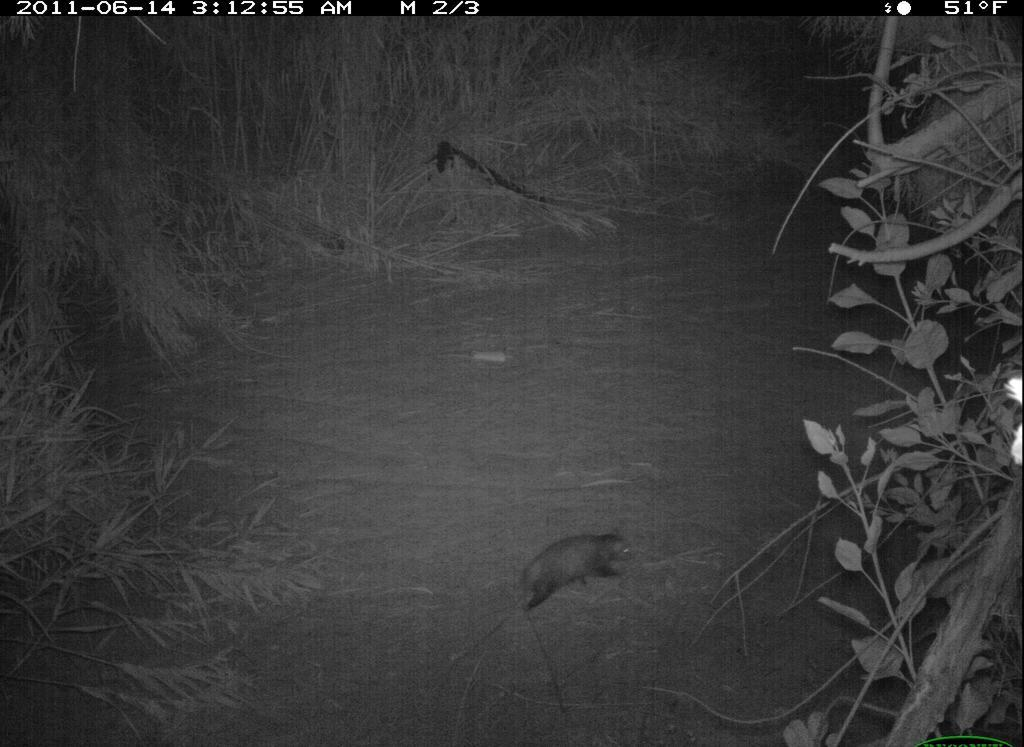opossum: (522, 532, 637, 613)
